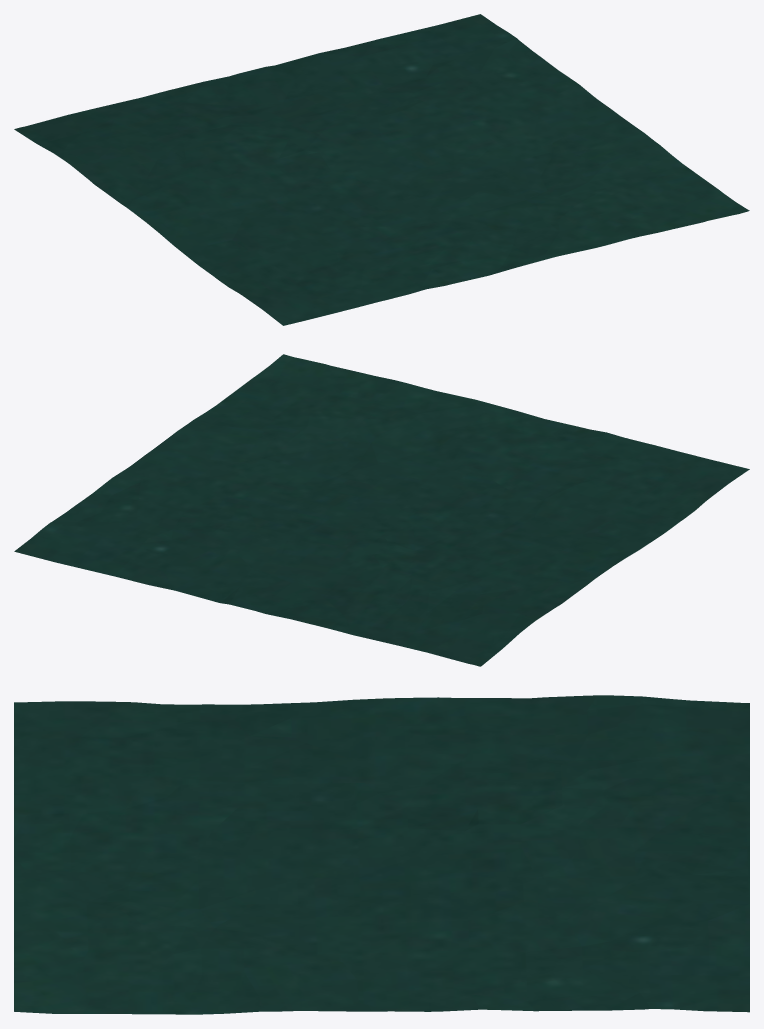
The picture shows the model from 3 angles, top to bottom: view 1: azimuth 30°, elevation 25°; view 2: azimuth 150°, elevation 25°; view 3: azimuth 270°, elevation 25°; orthographic projection. The views are drawn at different scales.
Bounding box in the file's own units: 52.22 × 0.7341 × 52.22.
Materials: 2 (2 with a texture image).
